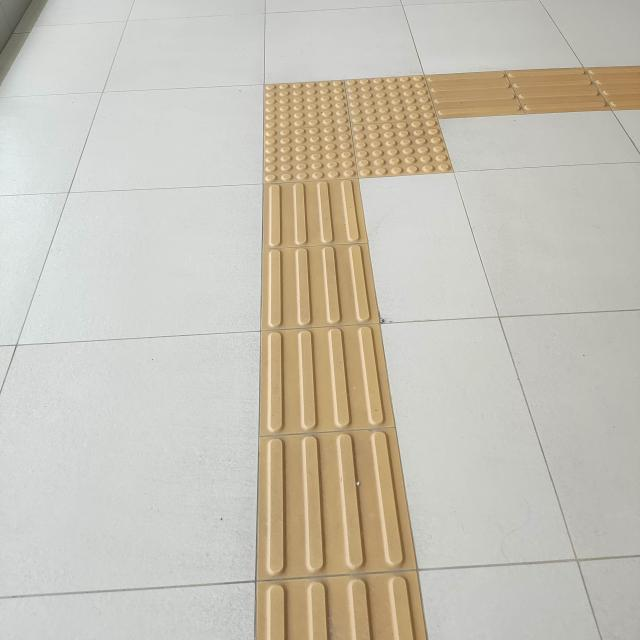kanan: (207, 35, 576, 230)
